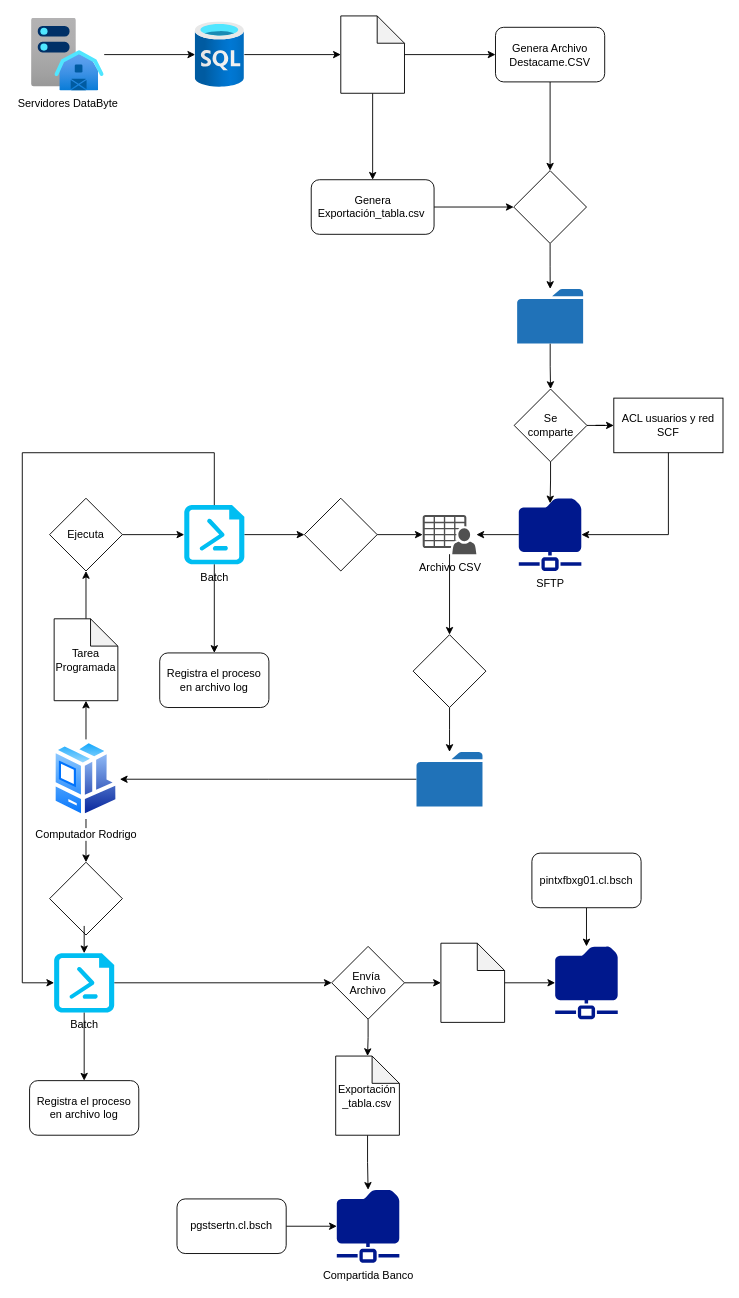
This 739x1298 diagram has some shape labels left out. Each missing label, with the box of its shape:
Almacena: (412, 634, 486, 708)
Carpeta Interna del servidor: (517, 288, 583, 343)
Carpeta Local: (416, 751, 482, 806)
Continua Batch: (49, 861, 122, 935)
Destacame .csv: (440, 942, 505, 1022)
Extrae: (303, 497, 377, 571)
JOBs SP: (340, 15, 404, 93)
Se almacena: (513, 170, 586, 243)
Servidor 22: (195, 21, 244, 87)
XBF/SFTP Banco: (555, 946, 617, 1019)
